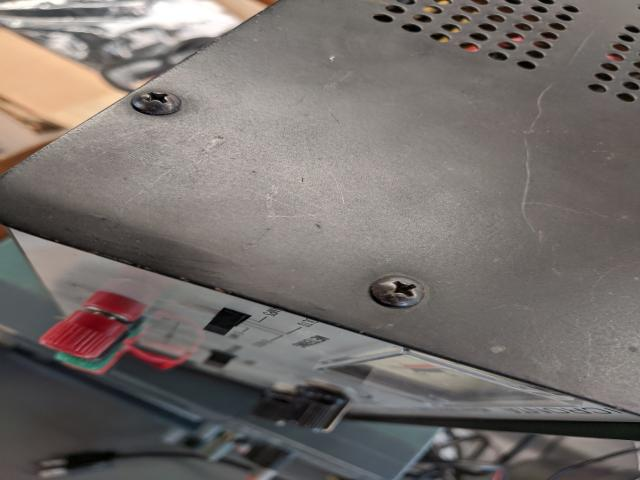CRS: (373, 275, 426, 308), (129, 90, 183, 115)
